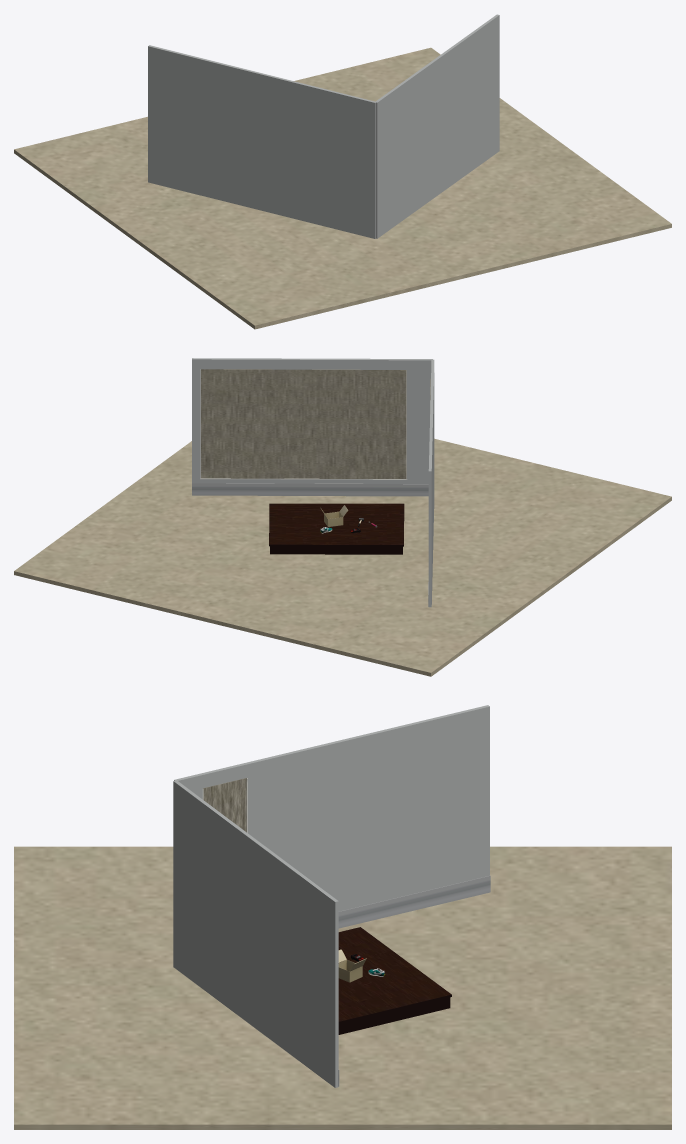
The model's file is ours.glb.
3 renders of one model, top to bottom at view 1: azimuth 30°, elevation 25°; view 2: azimuth 150°, elevation 25°; view 3: azimuth 270°, elevation 25°, orthographic. The views are drawn at different scales.
Visible parts, largest first — view 1: floor_0, wall_2, wall_0, wall_1; view 2: floor_0, wall_0_wood_panel, wall_0, table_0, wall_0_baseboard, wall_2, wall_0_panel_frame; view 3: floor_0, wall_2, wall_0, table_0, wall_2_baseboard, wall_1_wood_panel, wall_1.
Part boxes in pixels (box(x1,y1,x2,y2)): floor_0: box(14, 47, 671, 329); wall_2: box(148, 45, 323, 225); wall_0: box(375, 14, 499, 238); wall_1: box(323, 89, 375, 238); floor_0: box(14, 438, 671, 676); wall_0_wood_panel: box(201, 369, 406, 478); wall_0: box(192, 358, 432, 496); table_0: box(269, 503, 404, 554); wall_0_baseboard: box(192, 483, 428, 496); wall_2: box(428, 385, 433, 607); wall_0_panel_frame: box(200, 369, 407, 479); floor_0: box(14, 846, 671, 1129); wall_2: box(246, 705, 489, 911); wall_0: box(173, 780, 338, 1087); table_0: box(338, 927, 451, 1034); wall_2_baseboard: box(338, 875, 490, 928); wall_1_wood_panel: box(203, 778, 246, 831); wall_1: box(174, 763, 247, 799).
Size of the model in its own units: 9 by 2.89 by 9.
Materials: 18 (18 with a texture image).
